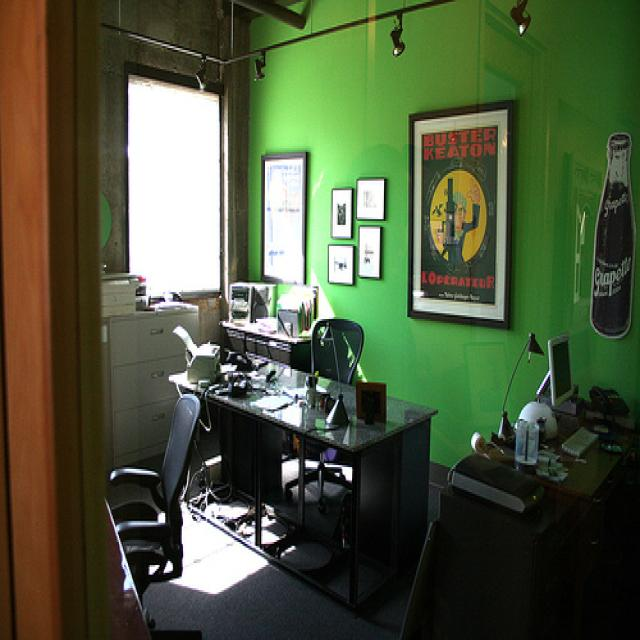chair: (110, 393, 203, 639), (281, 318, 366, 516)
tvmonitor: (532, 332, 577, 405)
